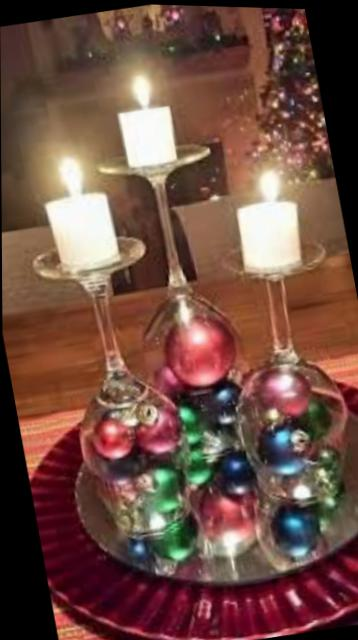fire: (51, 148, 95, 204), (122, 67, 161, 113), (247, 162, 289, 201)
